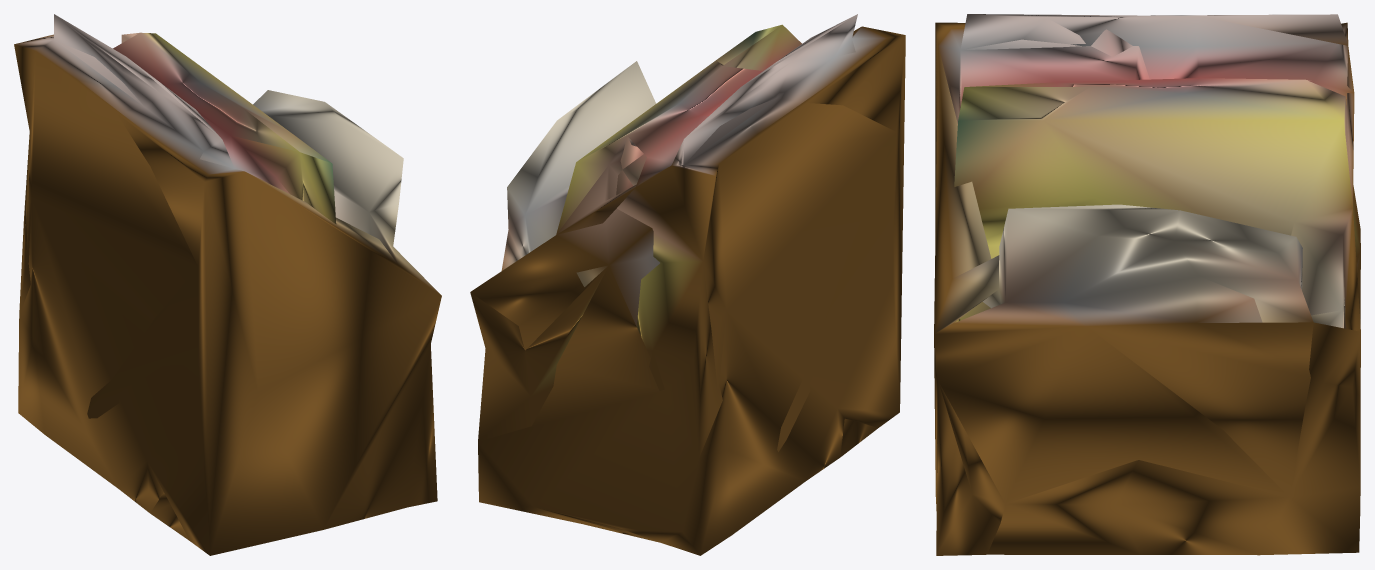
File: gen3d-magazine-rack-lod1.glb
3 renders of one model, left to right at view 1: azimuth 30°, elevation 25°; view 2: azimuth 150°, elevation 25°; view 3: azimuth 270°, elevation 25°, orthographic. The views are drawn at different scales.
Parts seen in each view (by area): view 1: part_0; view 2: part_0; view 3: part_0.
Part boxes in pixels (<box>): part_0: <box>14,14,441,555</box>; part_0: <box>470,14,905,555</box>; part_0: <box>934,14,1360,555</box>.
Bounding box in the file's own units: 0.6145 × 0.9989 × 0.8779.
